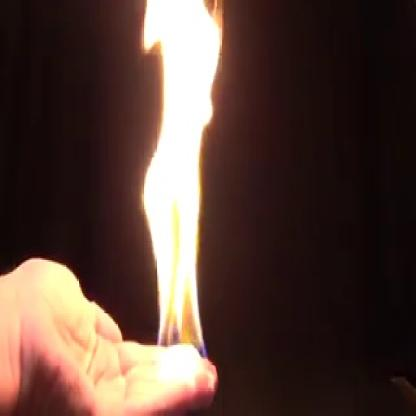fire: (136, 0, 228, 382)
